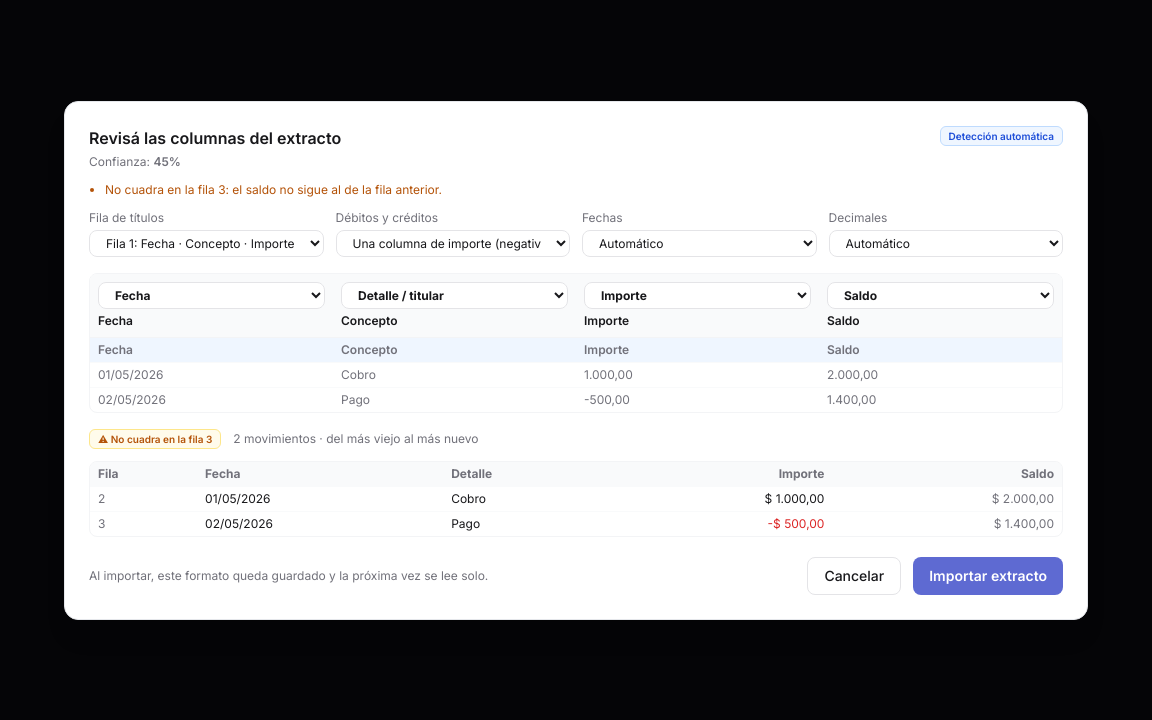
Scenario: ExtractoMapperModal › al cambiar una columna vuelve a leer y actualiza el control de saldos
Select "(No usar)" in the dropdown named "Uso de la columna Concepto" at (454, 295), box [341,282,568,308]
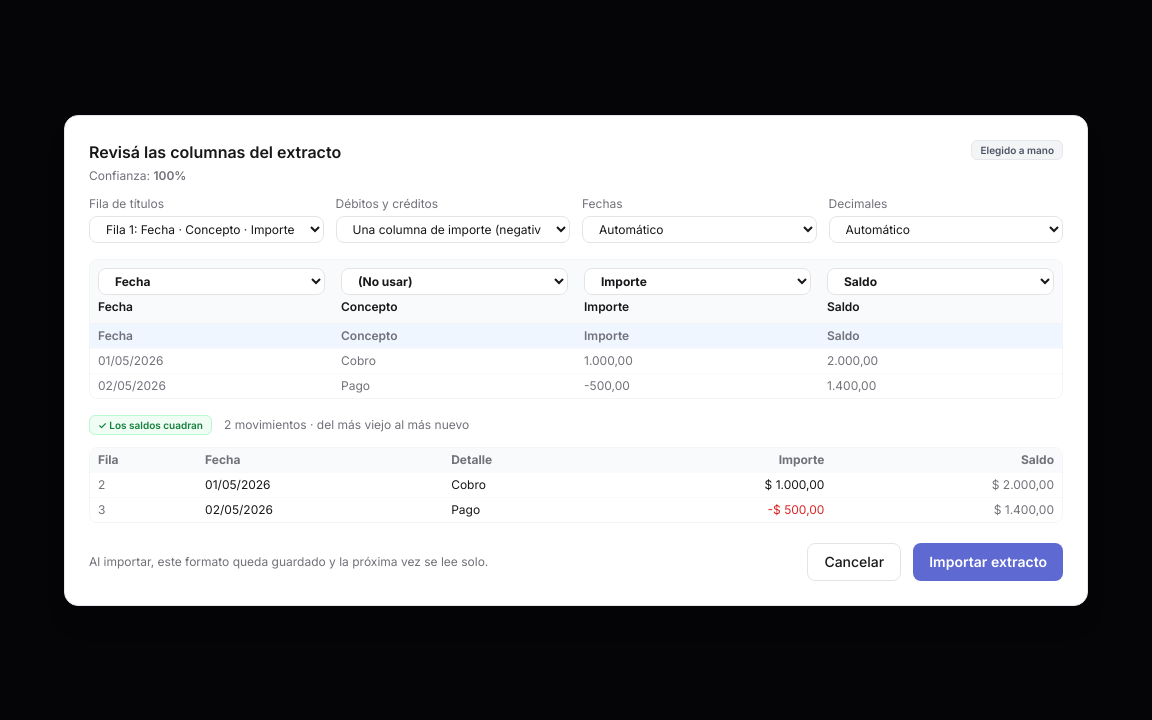
Result: the text "✓ Los saldos cuadran" is shown at [89,414,212,434]
